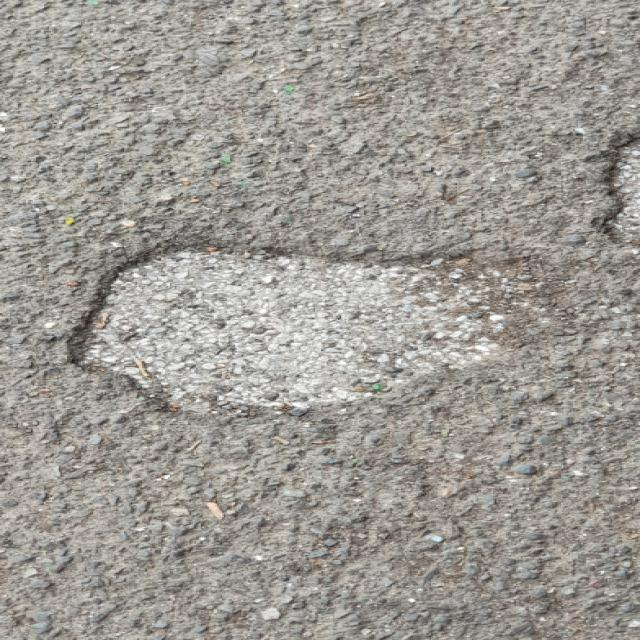pothole: (56, 232, 554, 424)
